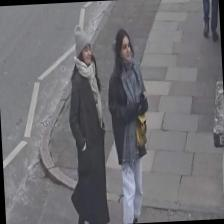person: (60, 23, 109, 224), (104, 27, 152, 224)
